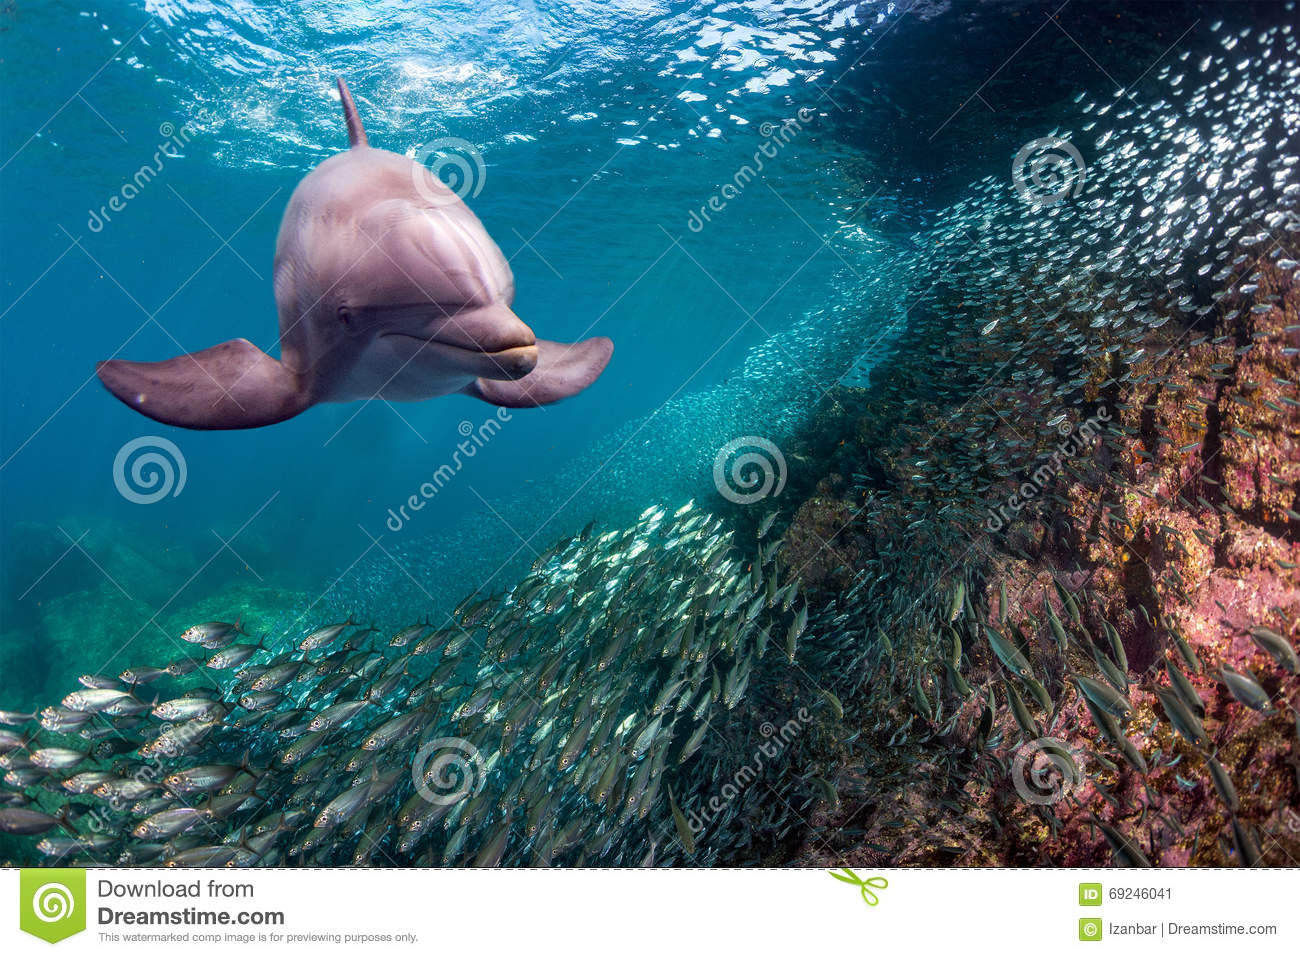dolphin: (79, 60, 627, 442)
fish: (292, 615, 372, 655), (170, 618, 255, 645), (52, 690, 135, 710)
